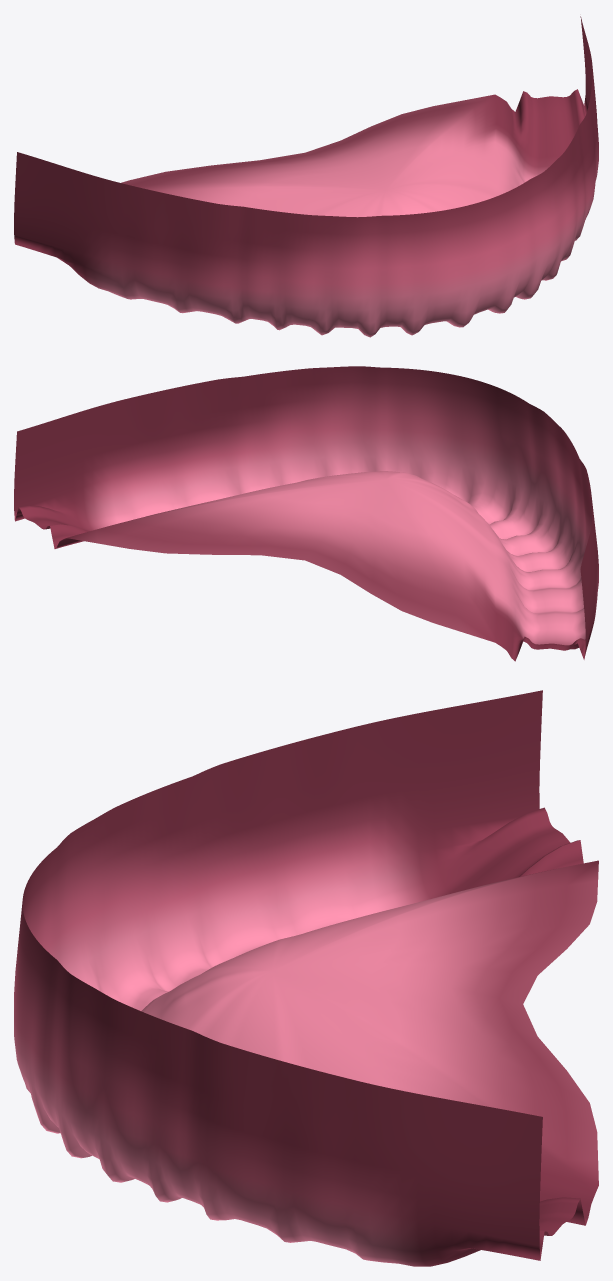
The model's file is gum_upper.glb.
The picture shows the model from 3 angles, top to bottom: view 1: azimuth 30°, elevation 25°; view 2: azimuth 150°, elevation 25°; view 3: azimuth 270°, elevation 25°; orthographic projection. The views are drawn at different scales.
Visible parts, largest first — view 1: gum_upper; view 2: gum_upper; view 3: gum_upper.
Boxes of the visible parts, <box> form: gum_upper: <box>14,16,598,337</box>; gum_upper: <box>14,366,598,661</box>; gum_upper: <box>14,690,598,1266</box>.
Size of the model in its own units: 12.44 by 2.64 by 7.11.
